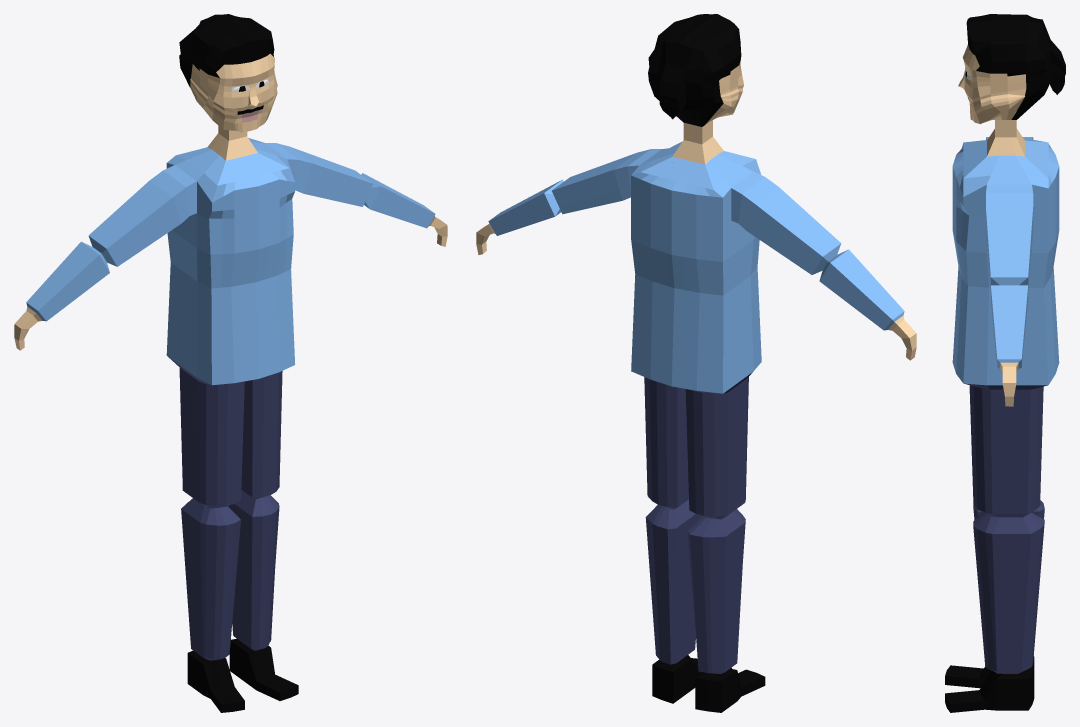
The model's file is vatan2.fbx.
The picture shows the model from 3 angles, left to right: view 1: azimuth 30°, elevation 25°; view 2: azimuth 150°, elevation 25°; view 3: azimuth 270°, elevation 25°; orthographic projection. The views are drawn at different scales.
Parts seen in each view (by area): view 1: tşört, kol, KOL, Cube.003, KOL.001, ayakkabı, SAÇ; view 2: tşört, kol, KOL, SAÇ, KOL.001, ayakkabı, Cube.003; view 3: kol, tşört, KOL.001, SAÇ, Cube.003, ayakkabı, el.001.
Boxes of the visible parts, bbox=[...] form: tşört: bbox=[166, 138, 295, 385]; kol: bbox=[168, 357, 282, 660]; KOL: bbox=[26, 165, 196, 321]; Cube.003: bbox=[190, 53, 277, 160]; KOL.001: bbox=[265, 143, 435, 228]; ayakkabı: bbox=[187, 638, 298, 712]; SAÇ: bbox=[179, 14, 274, 87]; tşört: bbox=[631, 142, 761, 393]; kol: bbox=[644, 371, 753, 673]; KOL: bbox=[731, 171, 904, 330]; SAÇ: bbox=[648, 14, 741, 126]; KOL.001: bbox=[488, 149, 661, 235]; ayakkabı: bbox=[652, 655, 765, 712]; Cube.003: bbox=[672, 59, 743, 164]; kol: bbox=[964, 383, 1047, 673]; tşört: bbox=[952, 139, 1059, 385]; KOL.001: bbox=[986, 184, 1033, 368]; SAÇ: bbox=[966, 14, 1065, 119]; Cube.003: bbox=[958, 45, 1026, 156]; ayakkabı: bbox=[945, 656, 1034, 712]; el.001: bbox=[1000, 362, 1018, 406].
Size of the model in its own units: 141 by 207 by 33.77.
